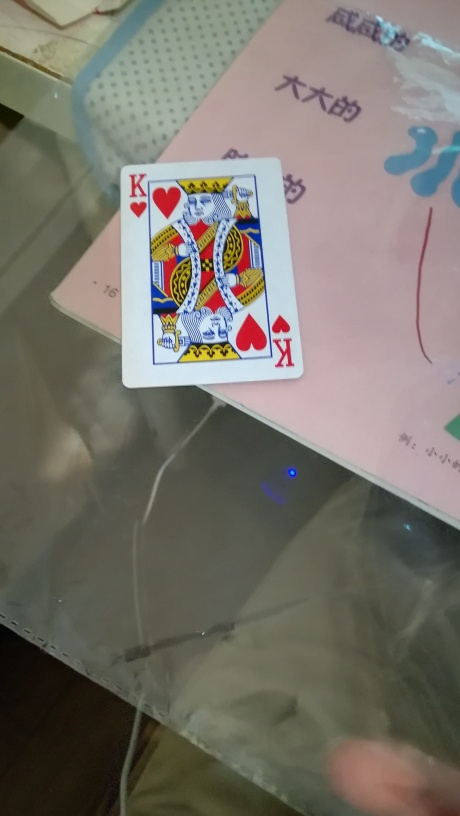hx k: (117, 160, 297, 388)
